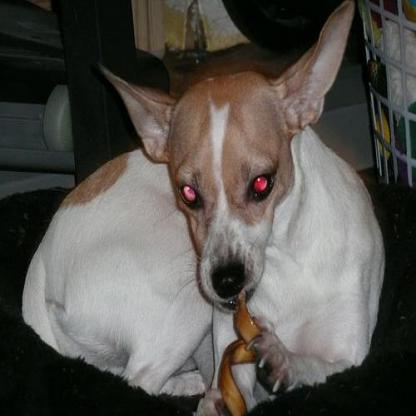dog: (21, 3, 384, 401)
